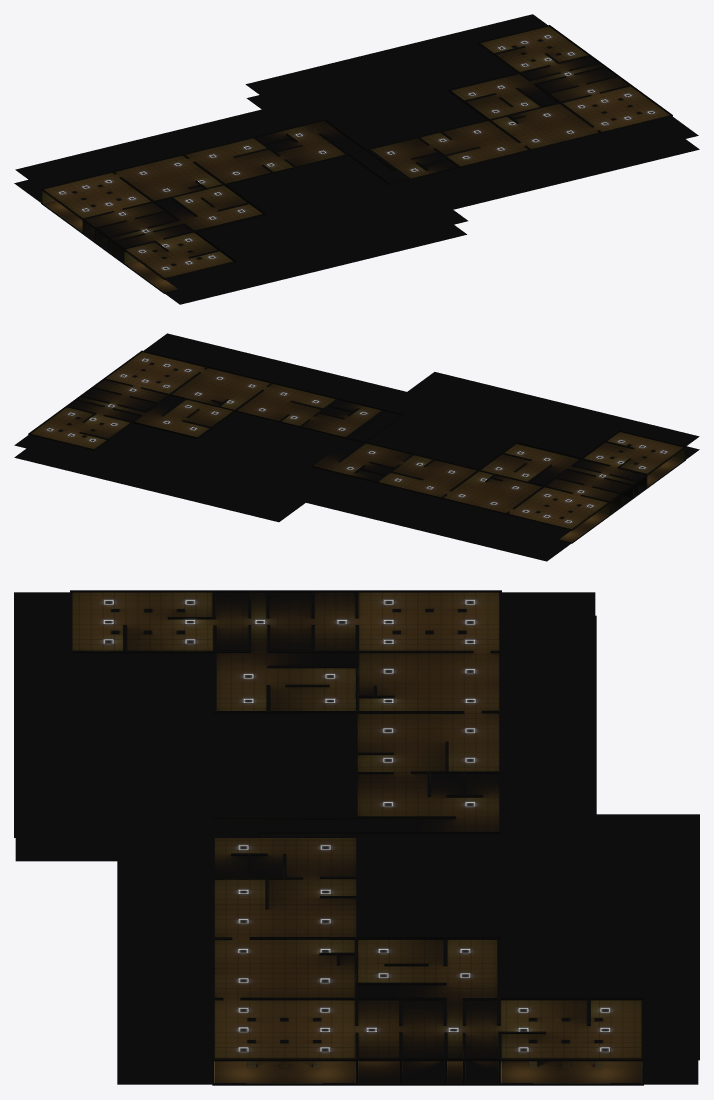
The model's file is Backrooms.glb.
3 views of the same model, one above another, from view 1: azimuth 30°, elevation 25°; view 2: azimuth 150°, elevation 25°; view 3: azimuth 270°, elevation 25° (orthographic). The views are drawn at different scales.
Parts seen in each view (by area): view 1: XR_ROOF.003, Object_8.004; view 2: XR_ROOF.003, Object_8.004; view 3: XR_ROOF.003, Object_8.004, XR_LIGHTS.003.
Part boxes in pixels (x1,y1,x2,y2): XR_ROOF.003: [15, 14, 698, 291]; Object_8.004: [14, 25, 699, 304]; XR_ROOF.003: [14, 333, 699, 548]; Object_8.004: [14, 350, 699, 561]; XR_ROOF.003: [14, 592, 699, 1060]; Object_8.004: [15, 590, 698, 1085]; XR_LIGHTS.003: [104, 600, 609, 1047].
Size of the model in its own units: 387 by 10.04 by 239.
Materials: 18 (14 with a texture image).
